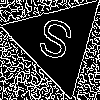S: (32, 16, 77, 71)
